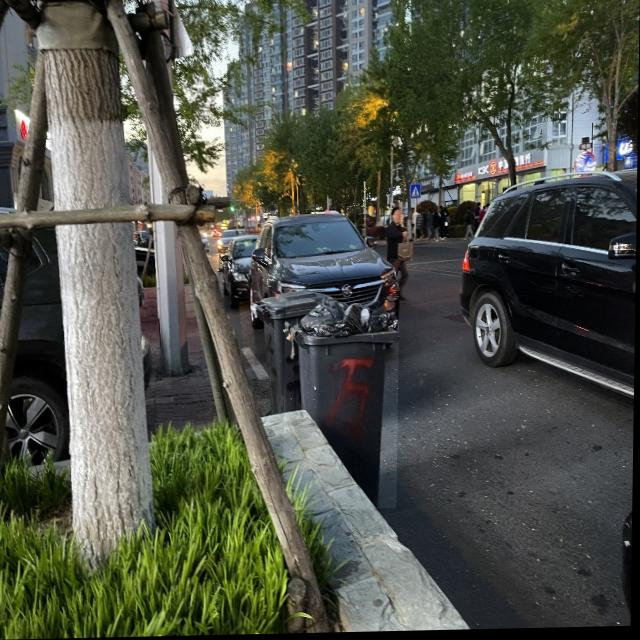garbage_bin: (255, 290, 332, 414)
overflow: (284, 298, 400, 512)
